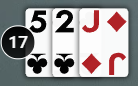2: (52, 8, 77, 36)
5: (25, 9, 50, 34)
j: (79, 8, 103, 34)
